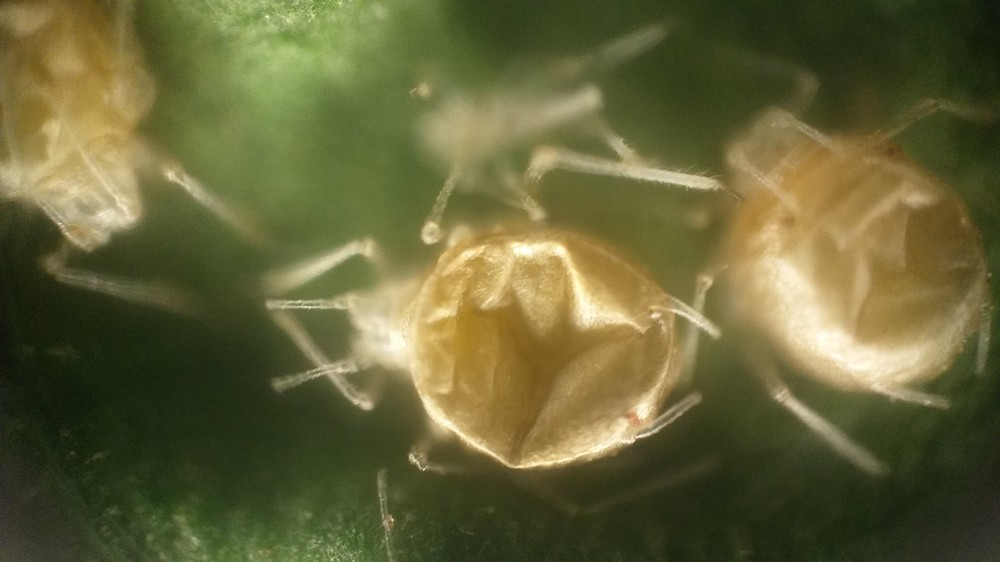Pulgon: (268, 178, 744, 516), (701, 92, 994, 482), (1, 1, 279, 303)
